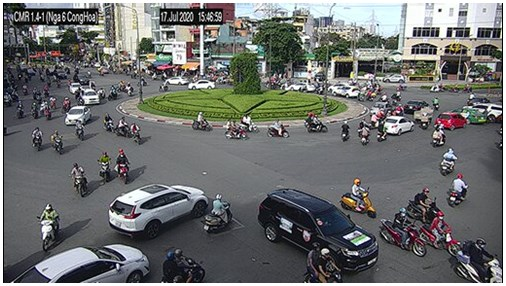xe_hoi: (258, 188, 378, 276), (107, 183, 209, 239), (9, 244, 150, 283), (464, 103, 503, 119), (384, 116, 414, 136), (452, 107, 485, 125), (436, 113, 466, 131), (64, 106, 90, 126), (332, 86, 359, 98), (187, 79, 215, 89), (326, 83, 354, 93), (79, 89, 97, 104), (382, 72, 404, 84), (289, 82, 314, 91), (165, 77, 188, 85), (69, 82, 81, 93)
xe_may: (379, 208, 426, 257), (456, 237, 502, 284), (420, 211, 462, 256), (161, 248, 205, 283), (407, 188, 444, 229), (305, 242, 342, 282), (341, 178, 376, 217), (202, 192, 232, 235), (37, 204, 61, 251), (69, 162, 88, 199), (448, 173, 468, 207), (116, 147, 131, 185), (191, 111, 212, 133), (98, 151, 111, 186), (441, 147, 457, 175), (268, 118, 289, 139), (226, 119, 247, 140), (115, 116, 133, 139), (308, 114, 328, 134), (418, 103, 432, 130), (240, 115, 259, 133), (432, 126, 447, 148), (130, 121, 142, 148), (50, 130, 63, 154), (103, 113, 117, 135), (376, 119, 388, 143), (32, 127, 43, 152), (359, 124, 369, 146), (341, 120, 350, 143), (75, 119, 84, 142), (61, 96, 71, 115), (106, 84, 116, 101), (46, 96, 57, 111), (39, 100, 48, 118), (390, 89, 403, 101), (365, 88, 376, 102), (124, 81, 133, 97), (116, 80, 127, 93), (431, 96, 440, 111), (159, 80, 170, 92), (31, 101, 38, 119), (136, 77, 148, 87), (40, 84, 49, 97), (43, 105, 50, 121), (98, 86, 105, 102), (17, 101, 23, 119), (378, 93, 389, 102), (30, 87, 37, 101), (395, 103, 403, 115), (55, 79, 61, 89), (76, 96, 82, 105)
